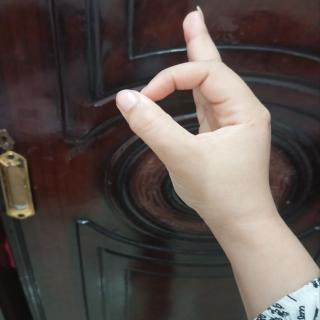Space: (100, 0, 288, 227)
